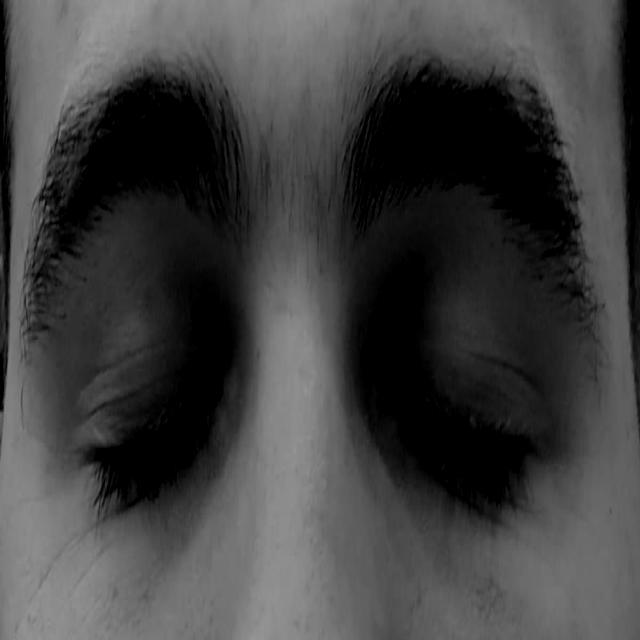real: (44, 172, 582, 572)
